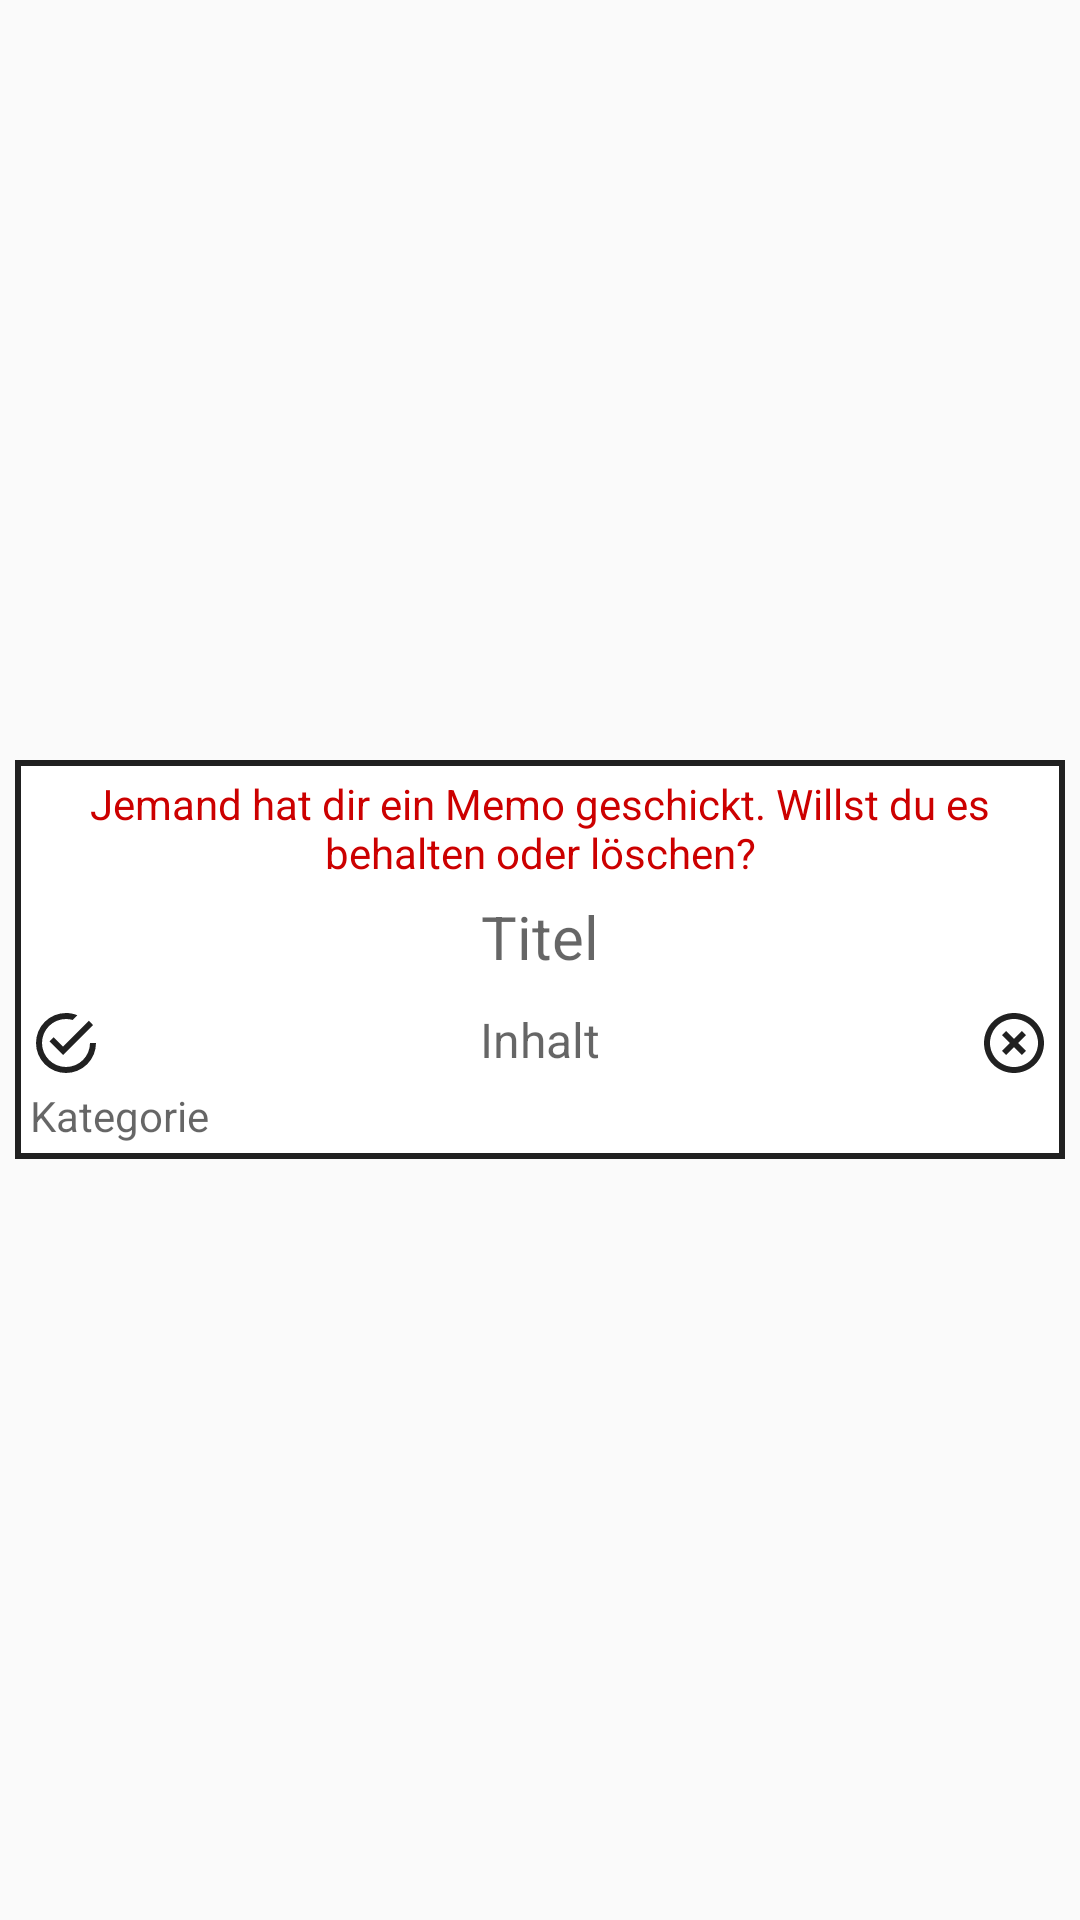

Screen size 1080*1920. Icon name, then its center in pixels as point (x, y):
checkbox marked circle: point (66, 1043)
close circle: point (1014, 1043)
